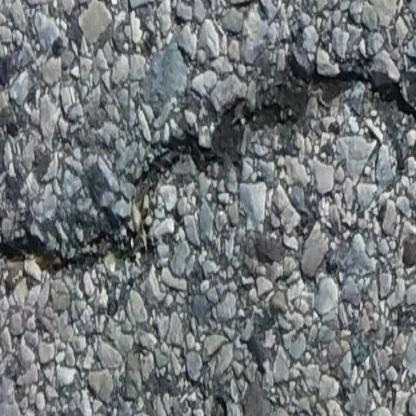Cracks: (0, 50, 416, 291)
